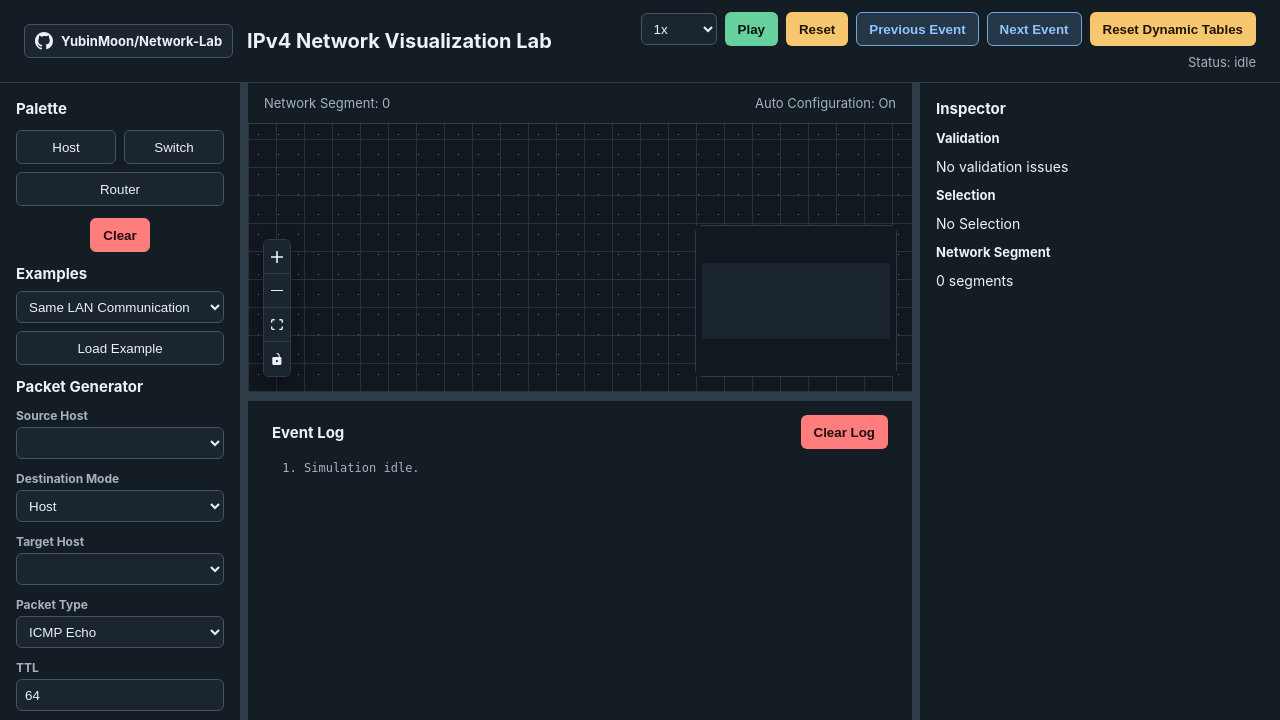
Test case: App › sends a packet from the Packet Generator
Select "Default Gateway Forwarding" in the 2nd dropdown at (120, 307), box [16,291,224,323]
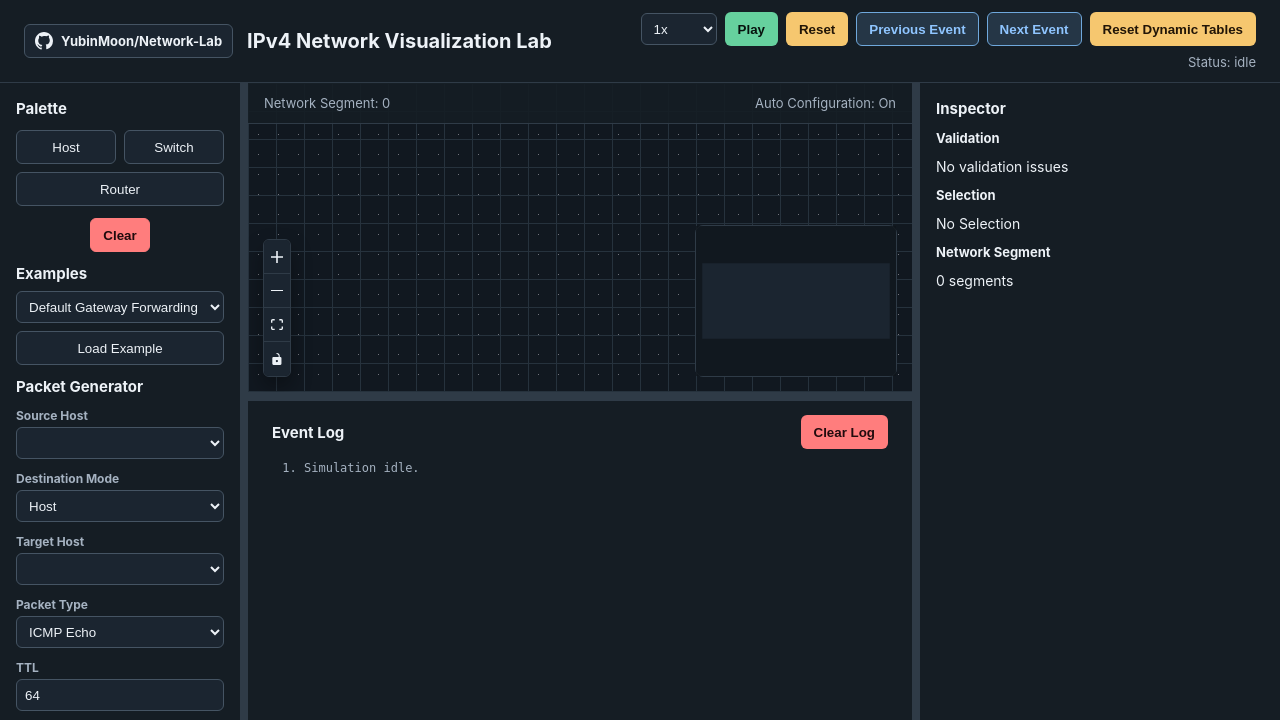
Click the button "Load Example".
click(120, 348)  # box [16,331,224,365]
(page scrolled)
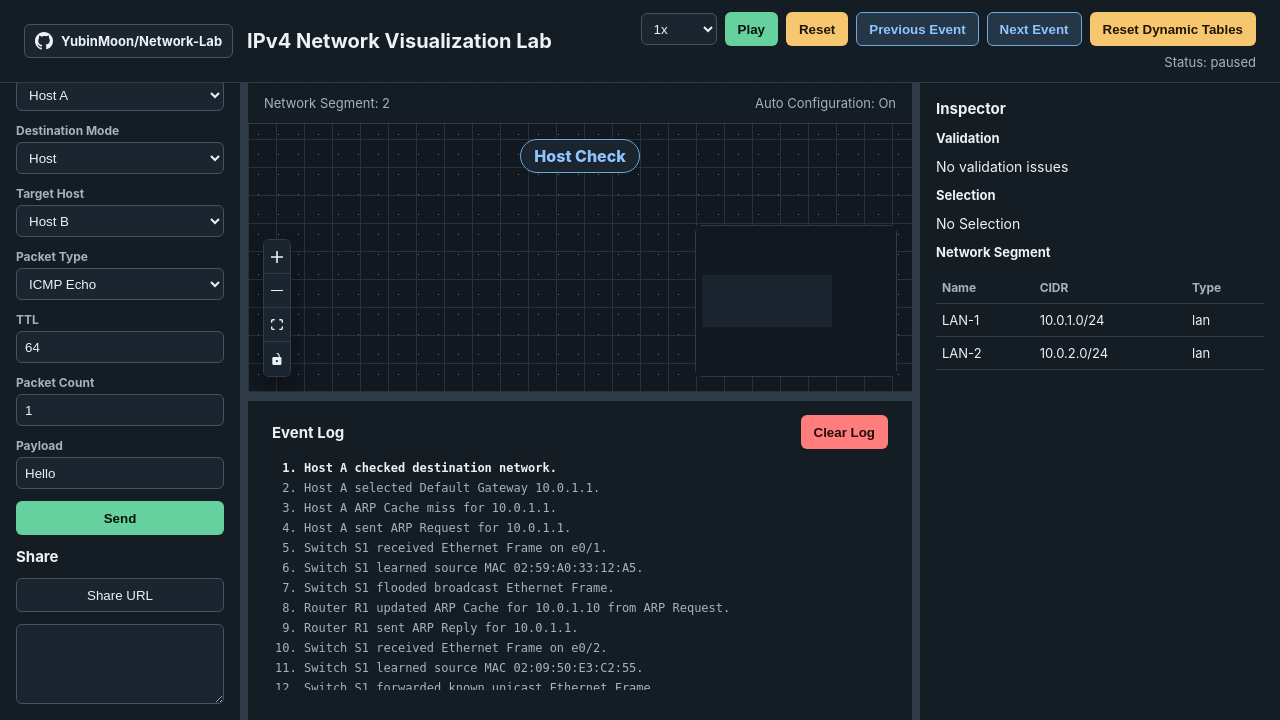
Click the button "Send".
click(120, 518)  # box [16,501,224,535]
(page scrolled)
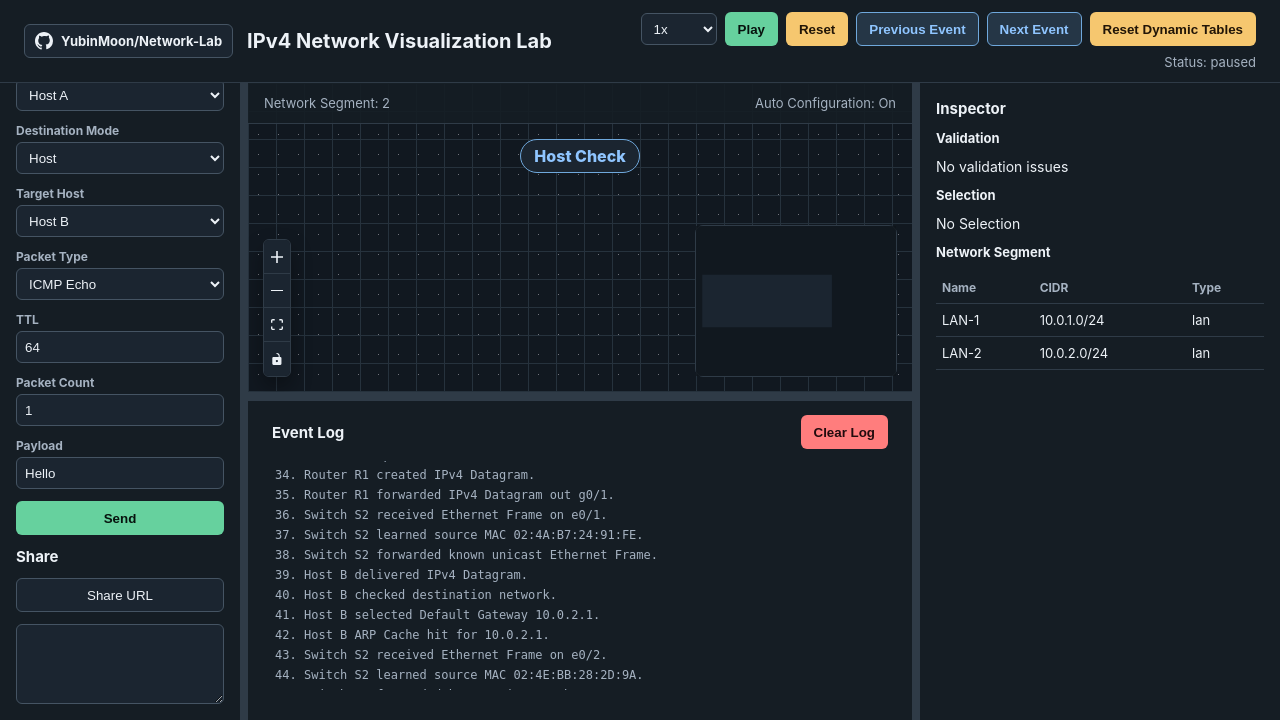
Expected: the list item "Host B delivered IPv4 Datagram." is shown, [304,568,528,582]
